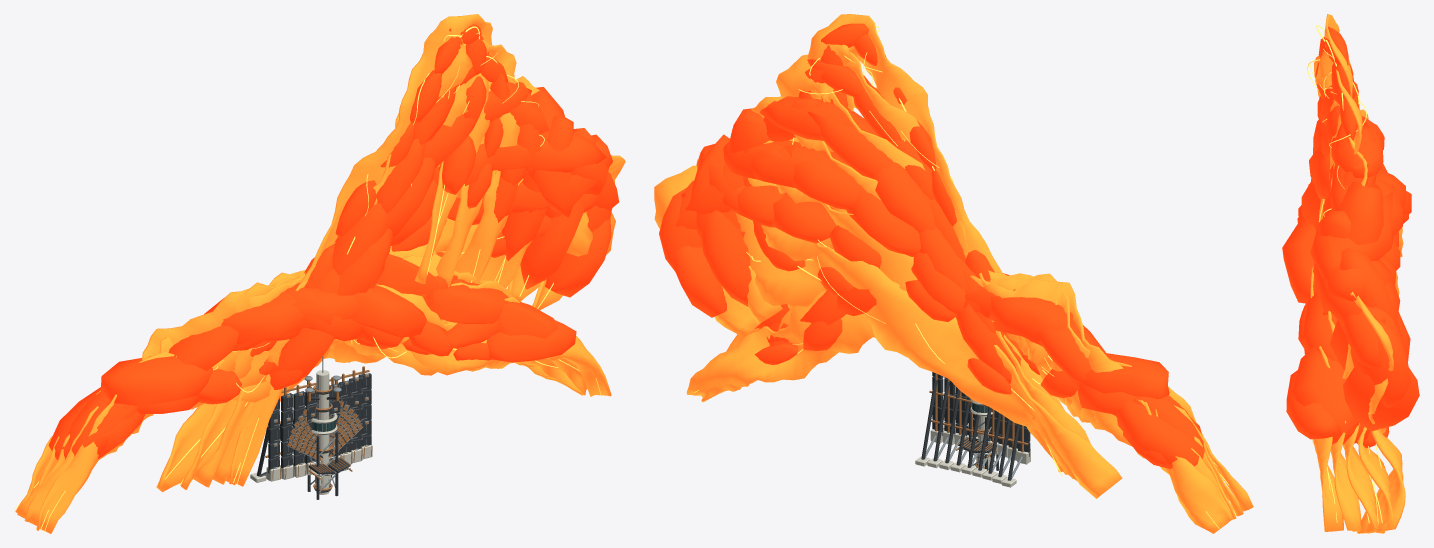
Rendered from thermal-observatory.glb.
The picture shows the model from 3 angles, left to right: view 1: azimuth 30°, elevation 25°; view 2: azimuth 150°, elevation 25°; view 3: azimuth 270°, elevation 25°; orthographic projection. The views are drawn at different scales.
Parts seen in each view (by area): view 1: ProminenceCrown / Plasma / red turbulent billow, ProminenceRibbon / Plasma / red turbulent billow, ProminenceCrown / Plasma / modeled coral filament, ProminenceRibbon / Plasma / modeled coral filament, Sunshield / Graphite / curved shield cassette, RadiatorFan / Copper / feather laminations, InstrumentTower / Ceramic / thick chalk thermal mantle, ProminenceCrown / Plasma / luminous core ribbons, Sunshield / Ceramic / thick chalk thermal mantle, Sunshield / Titanium / cool expansion joints, RadiatorFan / Titanium / cool expansion joints, InstrumentTower / Graphite / curved shield cassette (+2 smaller); view 2: ProminenceCrown / Plasma / red turbulent billow, ProminenceCrown / Plasma / modeled coral filament, ProminenceRibbon / Plasma / red turbulent billow, ProminenceRibbon / Plasma / modeled coral filament, Sunshield / Graphite / curved shield cassette, Sunshield / Ceramic / thick chalk thermal mantle, Sunshield / Copper / feather laminations, ProminenceCrown / Plasma / luminous core ribbons; view 3: ProminenceCrown / Plasma / red turbulent billow, ProminenceRibbon / Plasma / red turbulent billow, ProminenceRibbon / Plasma / modeled coral filament, ProminenceCrown / Plasma / modeled coral filament, ProminenceCrown / Plasma / luminous core ribbons, ProminenceRibbon / Plasma / luminous core ribbons.
Boxes of the visible parts, x1=… form: ProminenceCrown / Plasma / red turbulent billow: x1=269, y1=24, x2=619, y2=389; ProminenceRibbon / Plasma / red turbulent billow: x1=48, y1=254, x2=576, y2=459; ProminenceCrown / Plasma / modeled coral filament: x1=156, y1=14, x2=625, y2=491; ProminenceRibbon / Plasma / modeled coral filament: x1=15, y1=244, x2=611, y2=533; Sunshield / Graphite / curved shield cassette: x1=257, y1=373, x2=371, y2=475; RadiatorFan / Copper / feather laminations: x1=287, y1=400, x2=362, y2=460; InstrumentTower / Ceramic / thick chalk thermal mantle: x1=310, y1=370, x2=337, y2=494; ProminenceCrown / Plasma / luminous core ribbons: x1=164, y1=26, x2=553, y2=485; Sunshield / Ceramic / thick chalk thermal mantle: x1=250, y1=445, x2=372, y2=482; Sunshield / Titanium / cool expansion joints: x1=258, y1=374, x2=368, y2=476; RadiatorFan / Titanium / cool expansion joints: x1=286, y1=401, x2=362, y2=482; InstrumentTower / Graphite / curved shield cassette: x1=307, y1=387, x2=338, y2=499; ProminenceCrown / Plasma / red turbulent billow: x1=659, y1=23, x2=1022, y2=394; ProminenceCrown / Plasma / modeled coral filament: x1=654, y1=14, x2=1122, y2=498; ProminenceRibbon / Plasma / red turbulent billow: x1=754, y1=273, x2=1204, y2=468; ProminenceRibbon / Plasma / modeled coral filament: x1=686, y1=270, x2=1253, y2=533; Sunshield / Graphite / curved shield cassette: x1=921, y1=372, x2=1030, y2=480; Sunshield / Ceramic / thick chalk thermal mantle: x1=915, y1=429, x2=1030, y2=487; Sunshield / Copper / feather laminations: x1=929, y1=373, x2=1030, y2=452; ProminenceCrown / Plasma / luminous core ribbons: x1=746, y1=26, x2=1074, y2=479; ProminenceCrown / Plasma / red turbulent billow: x1=1301, y1=26, x2=1419, y2=431; ProminenceRibbon / Plasma / red turbulent billow: x1=1282, y1=163, x2=1411, y2=448; ProminenceRibbon / Plasma / modeled coral filament: x1=1310, y1=227, x2=1405, y2=533; ProminenceCrown / Plasma / modeled coral filament: x1=1313, y1=14, x2=1399, y2=433; ProminenceCrown / Plasma / luminous core ribbons: x1=1307, y1=25, x2=1366, y2=221; ProminenceRibbon / Plasma / luminous core ribbons: x1=1326, y1=444, x2=1382, y2=523.
Bounding box in the file's own units: 965 × 677 × 180.
